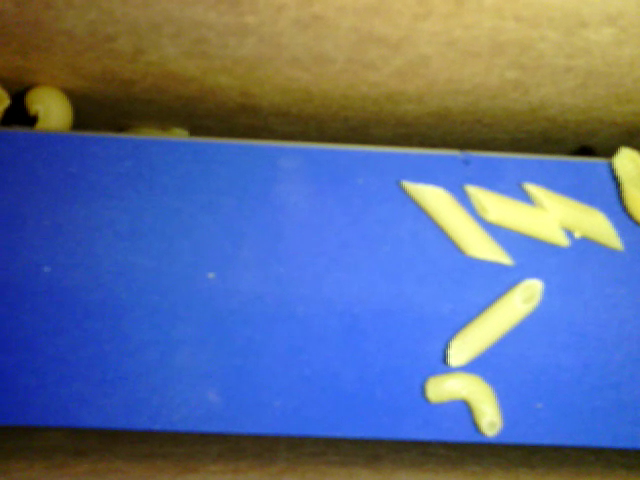elbow: (423, 371, 505, 434)
penne: (401, 181, 517, 266), (448, 276, 545, 366), (523, 180, 626, 249), (465, 185, 571, 246)
shell: (606, 140, 638, 216), (24, 88, 75, 131)
